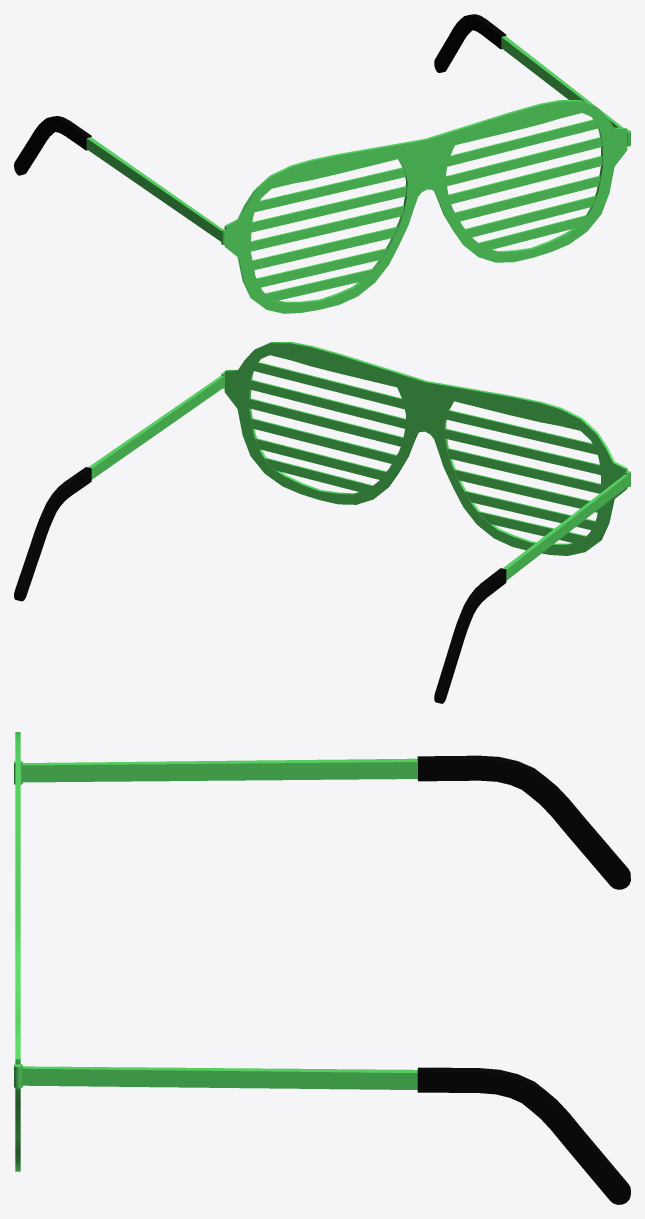
File: PartyGlasses.glb
3 views of the same model, one above another, from view 1: azimuth 30°, elevation 25°; view 2: azimuth 150°, elevation 25°; view 3: azimuth 270°, elevation 25° (orthographic). The views are drawn at different scales.
Visible parts, largest first — view 1: glasses22.001; view 2: glasses22.001; view 3: glasses22.001.
Part boxes in pixels (x1,y1,x2,y2): glasses22.001: [14, 14, 630, 313]; glasses22.001: [14, 342, 630, 703]; glasses22.001: [14, 732, 630, 1204].
Size of the model in its own units: 1.98 by 0.6714 by 1.62.
